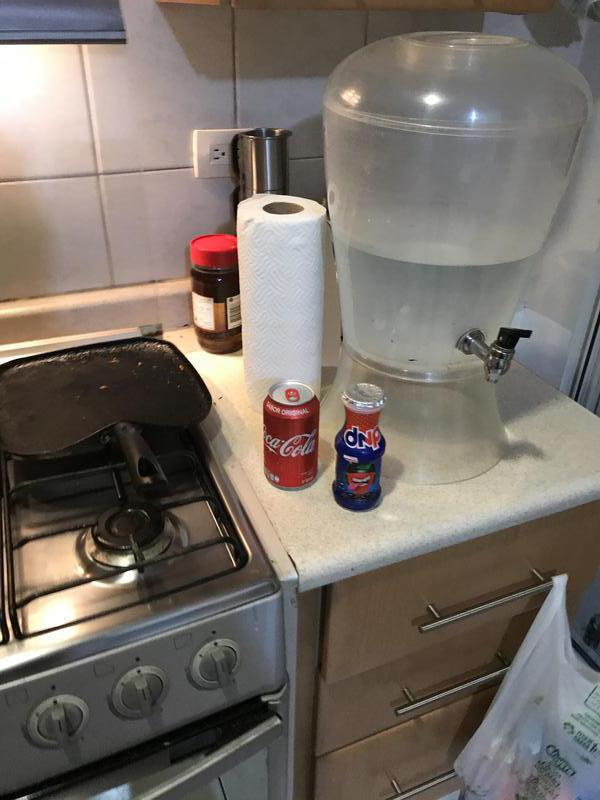coca_cola: (264, 379, 322, 489)
danup: (335, 383, 386, 510)
